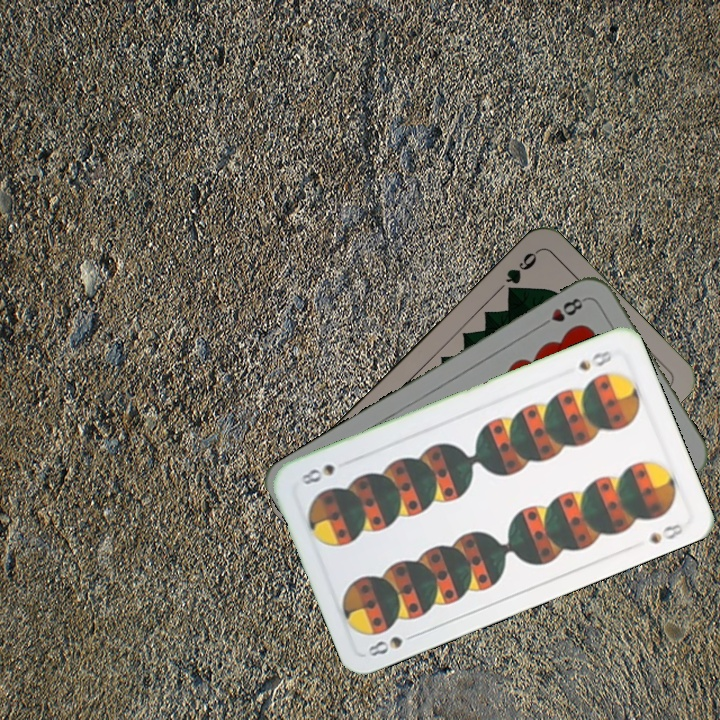G9: (501, 246, 541, 299)
H8: (535, 293, 589, 331)
S8: (364, 629, 421, 659), (574, 346, 614, 374)
